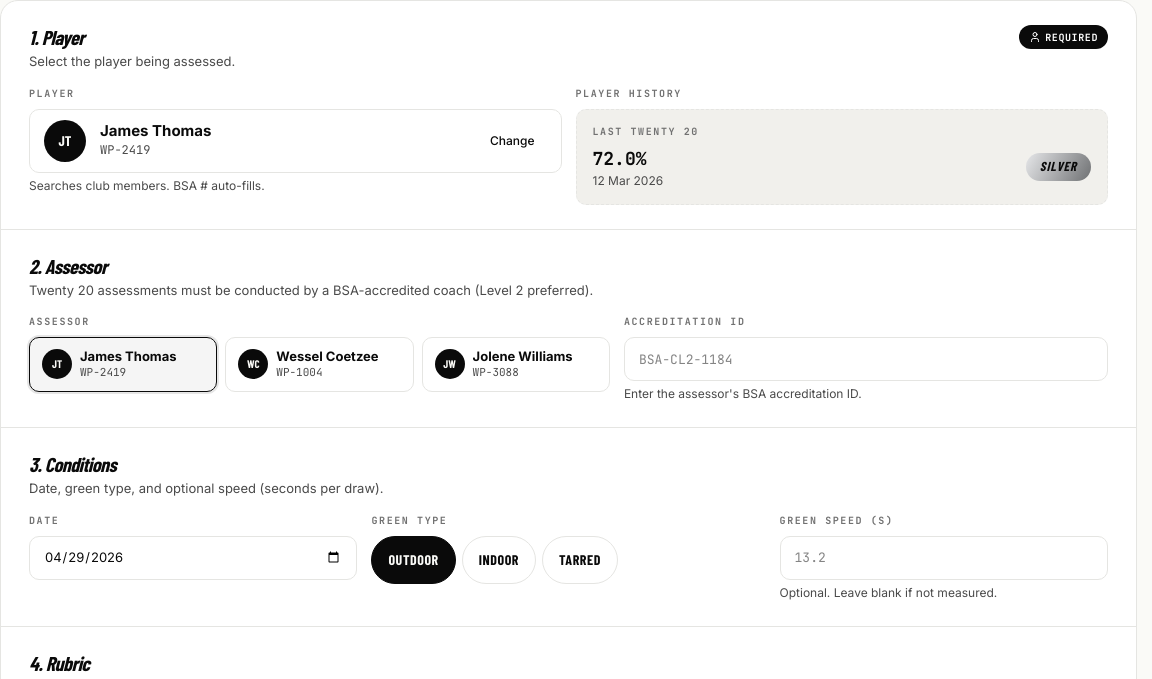
Test: <NewAssessmentForm /> — player picker › clicking a row updates the player + closes the picker
What coordinates should you click on to do the following:
click the button "Change"
I would click on:
 (512, 140)
Its box is [478,122,546,158].
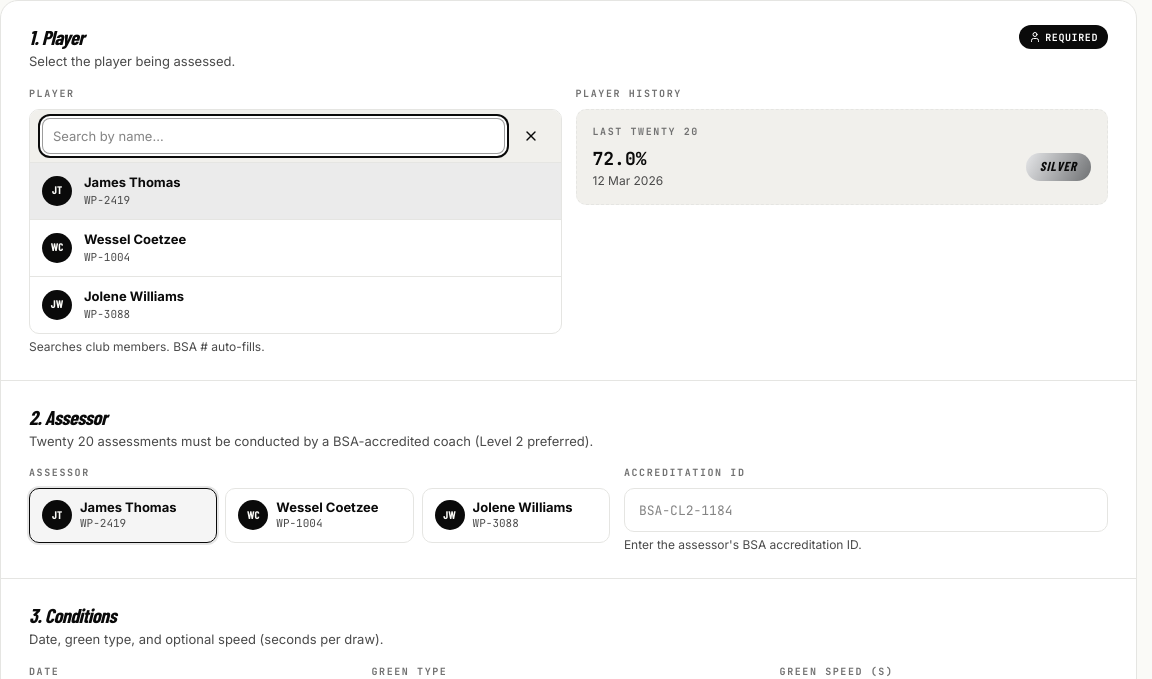
What coordinates should you click on to do the following:
click the button "WC Wessel Coetzee WP-1004" below "12 Mar 2026"
I would click on:
 (135, 238)
Its box is [30,220,560,276].
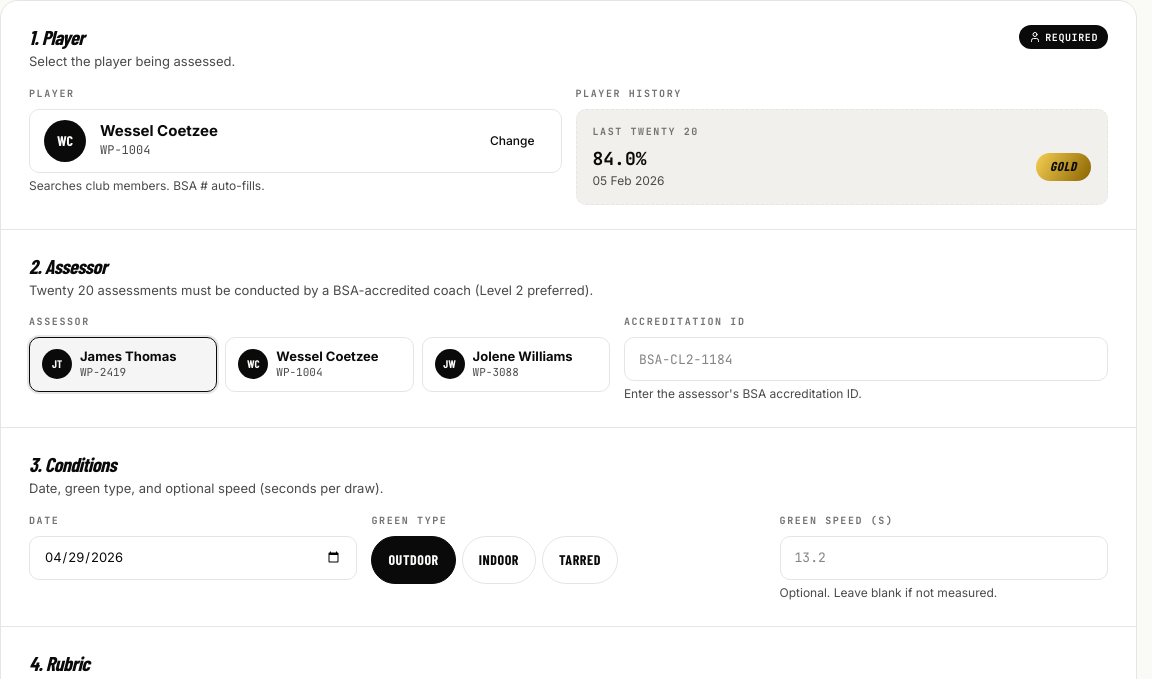
Expected: the element showing "WC Wessel Coetzee WP-1004 Change" is shown, [29,108,562,172]
